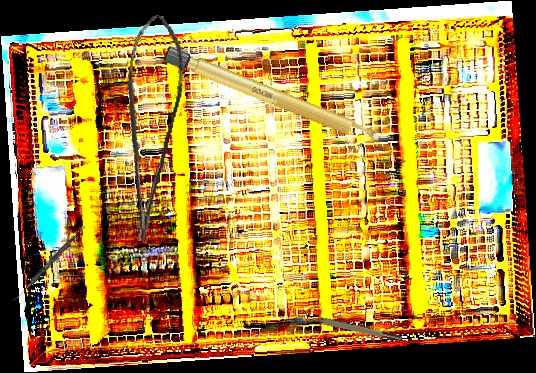Fixation Ring: (299, 309, 403, 348)
Micro Scissor: (94, 11, 197, 244)
Scalpel Handle: (162, 44, 386, 150)
Spatula Surgical: (11, 223, 87, 305)
